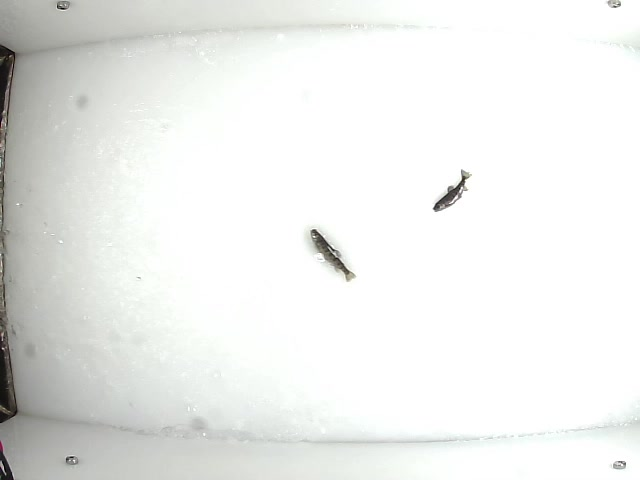fish: (310, 227, 358, 284), (430, 168, 473, 215)
